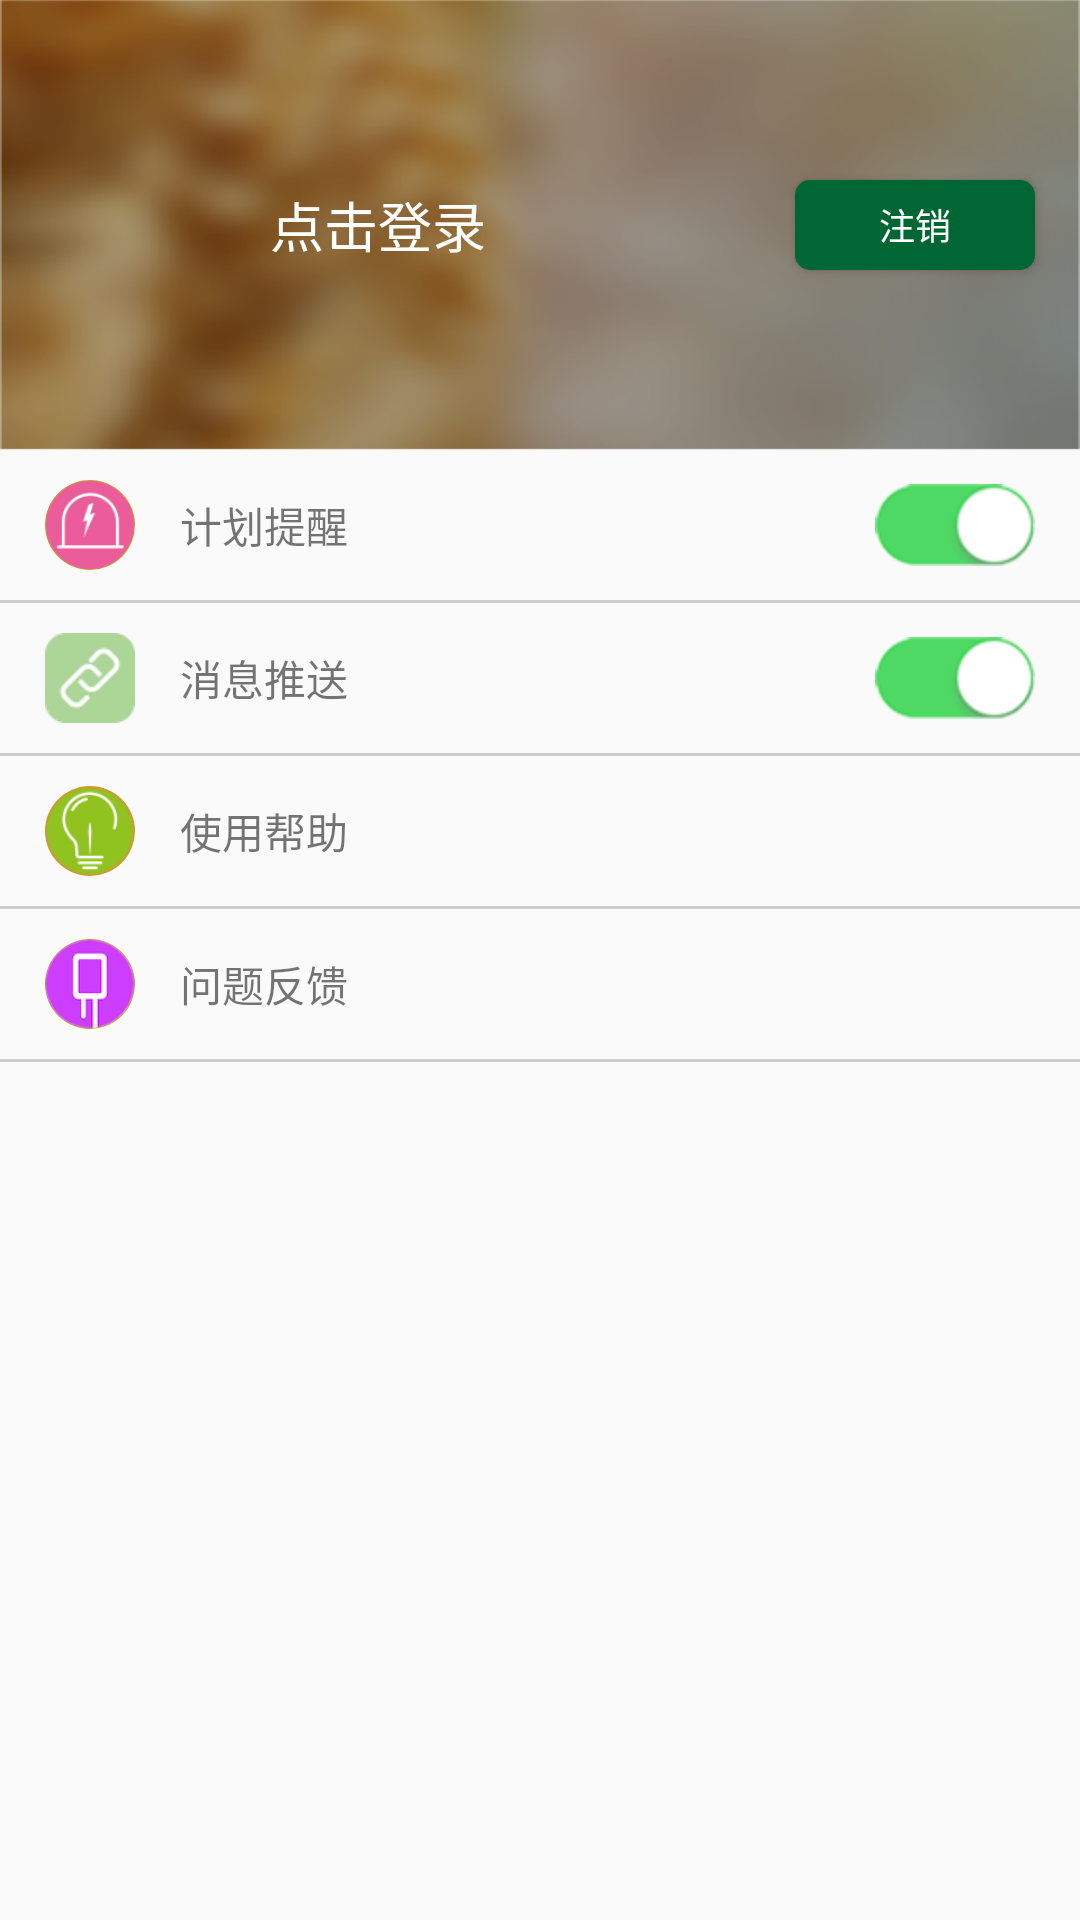

Screen size 1080*1920. Icon name, then its box in pixels as (x1, y1, x2, y2):
alarm: (45, 480, 135, 570)
lamp: (45, 786, 135, 876)
open switch: (875, 484, 1035, 566), (875, 637, 1035, 719)
